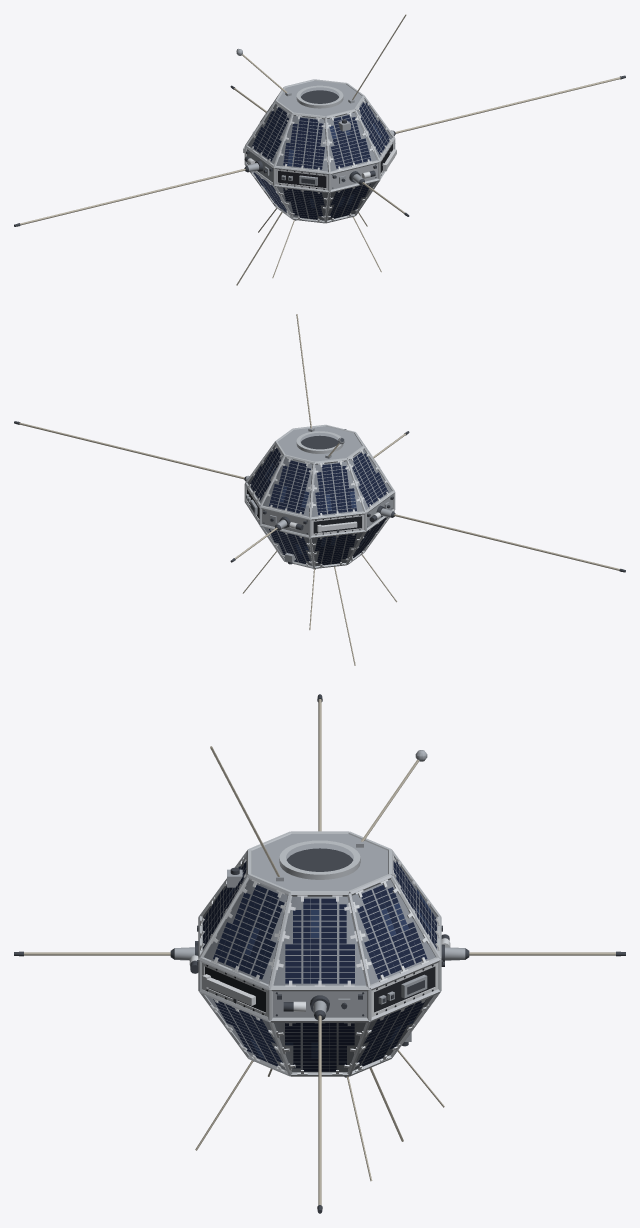
Rendered from isis-1.glb.
3 renders of one model, top to bottom at view 1: azimuth 30°, elevation 25°; view 2: azimuth 150°, elevation 25°; view 3: azimuth 270°, elevation 25°, orthographic. The views are drawn at different scales.
Visible parts, largest first — view 1: body, solar-panel; view 2: body, solar-panel; view 3: body, solar-panel.
Boxes of the visible parts, left/top/right/bottom form: body: left=14, top=14, right=625, bottom=285; solar-panel: left=251, top=102, right=390, bottom=219; body: left=14, top=314, right=625, bottom=665; solar-panel: left=250, top=448, right=388, bottom=564; body: left=14, top=694, right=625, bottom=1213; solar-panel: left=203, top=861, right=436, bottom=1071.
Size of the model in its own units: 6.02 by 2.67 by 3.02.
